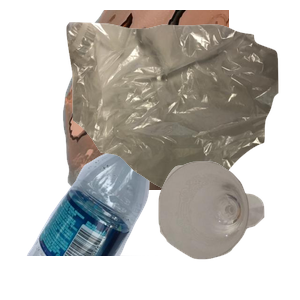glass: (156, 159, 300, 300)
metal: (60, 10, 300, 190)
plastic: (24, 120, 182, 300)
trash: (64, 20, 300, 200)
